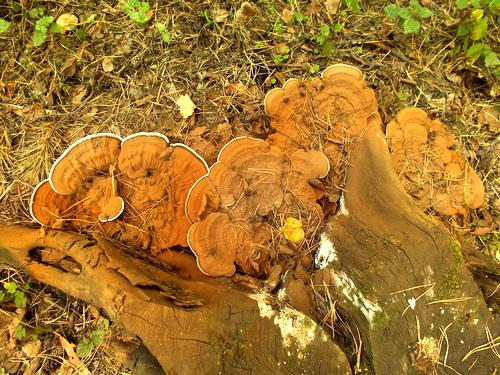Ganoderma - Fruit Body: (26, 129, 182, 261), (185, 135, 283, 283), (388, 99, 490, 220), (249, 59, 385, 134)
